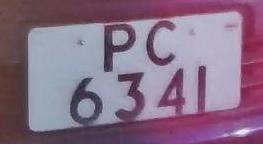1: (187, 60, 217, 123)
3: (107, 68, 156, 125)
4: (151, 61, 193, 121)
6: (62, 72, 108, 125)
C: (142, 17, 182, 70)
P: (94, 21, 142, 74)
